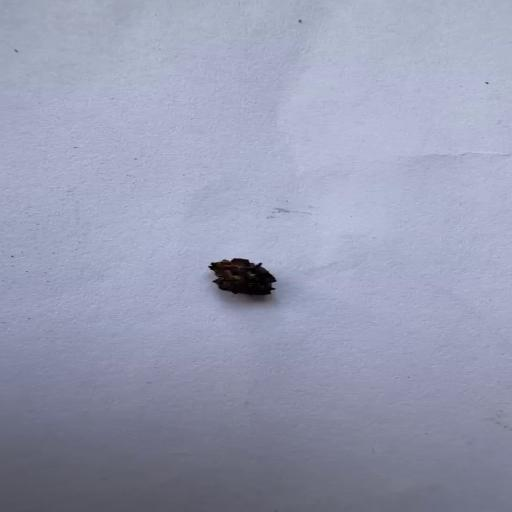papaya_seed: (206, 256, 279, 298)
